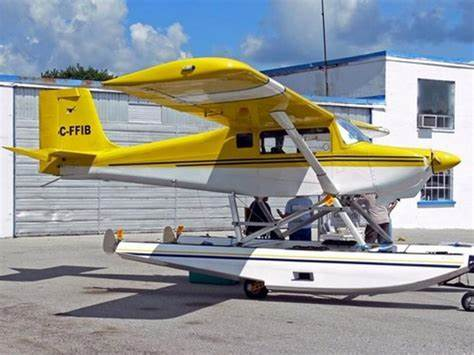Aeronef_commercial: (1, 48, 474, 317)
